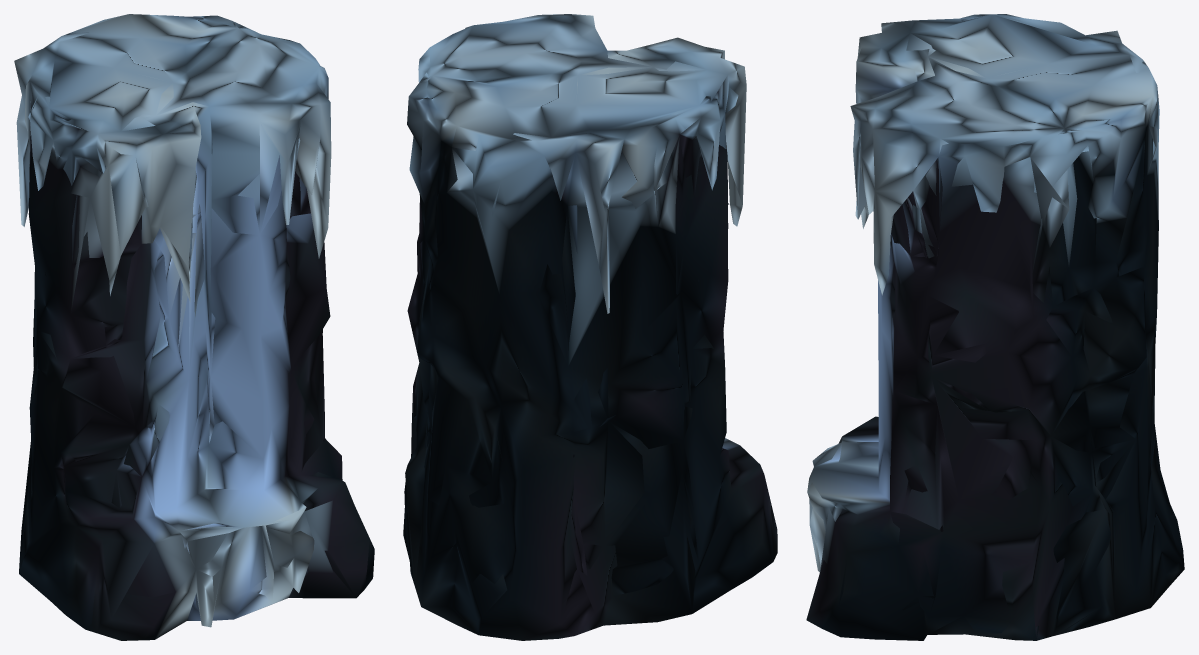
The model's file is gen3d-frozen-waterfall-lod0.glb.
The picture shows the model from 3 angles, left to right: view 1: azimuth 30°, elevation 25°; view 2: azimuth 150°, elevation 25°; view 3: azimuth 270°, elevation 25°; orthographic projection. The views are drawn at different scales.
Visible parts, largest first — view 1: part_0; view 2: part_0; view 3: part_0.
Boxes of the visible parts, bbox=[...] form: part_0: bbox=[14, 14, 374, 640]; part_0: bbox=[403, 14, 777, 640]; part_0: bbox=[806, 14, 1184, 640].
Bounding box in the file's own units: 0.6186 × 0.997 × 0.6866.
